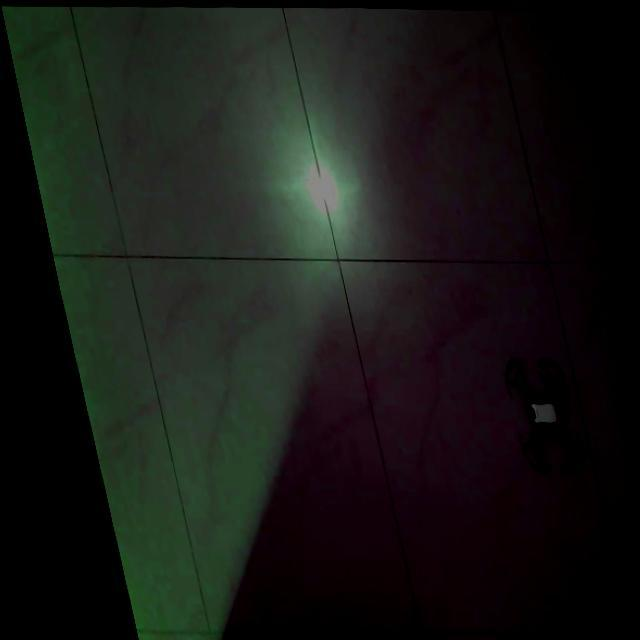drone: (487, 353, 563, 469)
